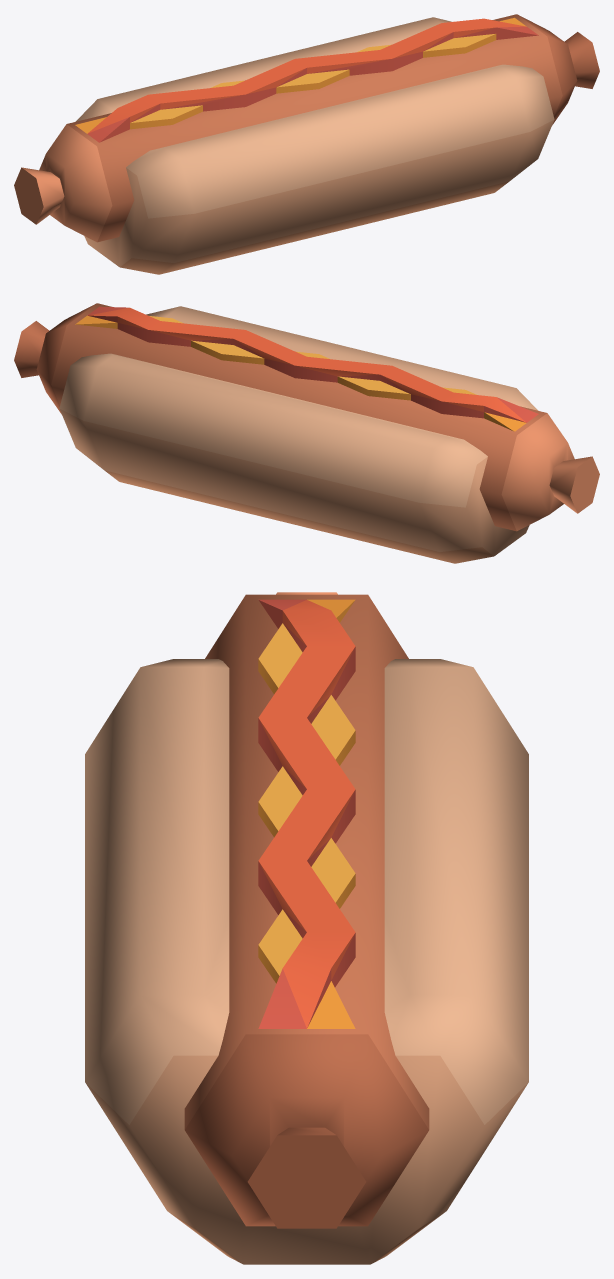
Rendered from cachorro-quente.glb.
3 views of the same model, one above another, from view 1: azimuth 30°, elevation 25°; view 2: azimuth 150°, elevation 25°; view 3: azimuth 270°, elevation 25° (orthographic). The views are drawn at different scales.
Visible parts, largest first — view 1: hot-dog, sausage, sauce; view 2: hot-dog, sausage, sauce; view 3: hot-dog, sausage, sauce.
Part boxes in pixels (bbox=[...]): hot-dog: bbox=[75, 17, 554, 274]; sausage: bbox=[14, 14, 599, 242]; sauce: bbox=[75, 17, 538, 142]; hot-dog: bbox=[59, 306, 538, 563]; sausage: bbox=[14, 303, 599, 531]; sauce: bbox=[75, 306, 538, 431]; hot-dog: bbox=[85, 659, 528, 1264]; sausage: bbox=[184, 592, 429, 1228]; sauce: bbox=[258, 599, 355, 1028].
Bounding box in the file's own units: 0.5859 × 0.1526 × 0.2025.
